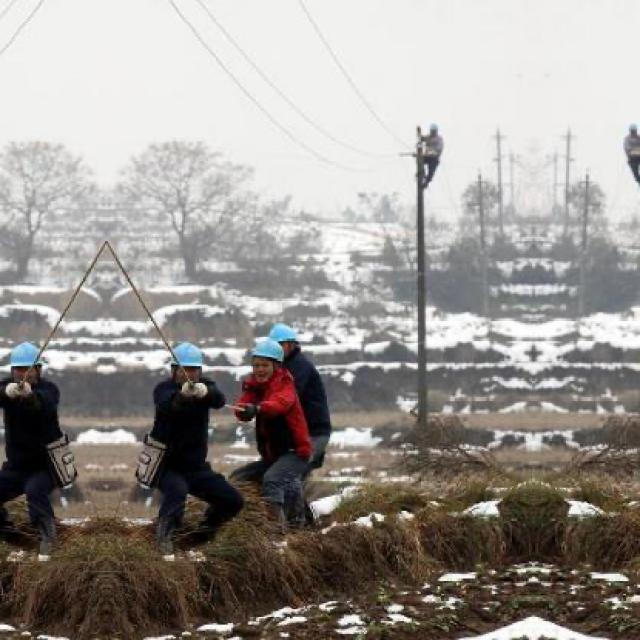helmet: (265, 320, 299, 365), (251, 340, 284, 382), (174, 344, 207, 382), (5, 344, 37, 382)
